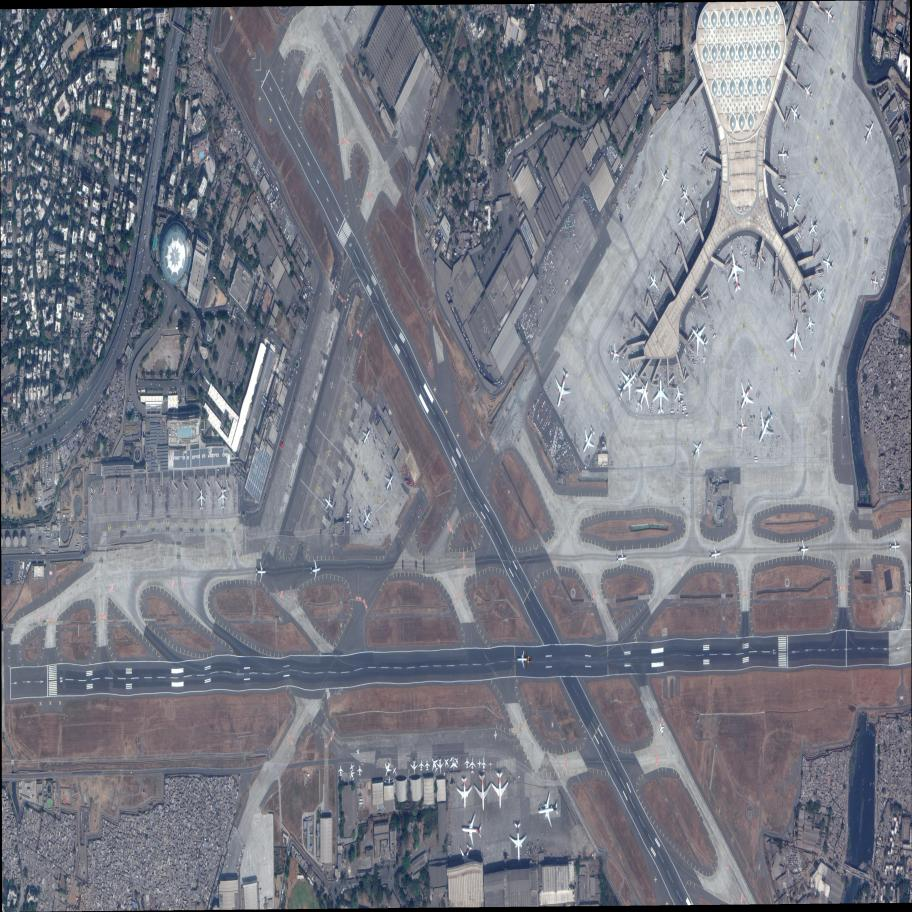large-vehicle: (264, 494, 266, 500), (133, 262, 135, 266)
plane: (745, 397, 787, 457), (607, 354, 648, 411), (545, 359, 580, 419), (727, 371, 765, 423), (625, 369, 659, 422), (684, 312, 714, 364), (781, 312, 808, 368), (722, 246, 748, 300), (574, 417, 603, 463), (454, 836, 482, 876), (682, 431, 711, 468), (639, 263, 668, 298), (507, 819, 529, 865), (536, 792, 561, 832), (668, 201, 695, 237), (857, 113, 882, 151), (353, 420, 378, 455), (673, 177, 697, 211), (461, 813, 483, 850), (490, 770, 509, 812), (473, 773, 492, 815), (355, 502, 379, 535), (377, 467, 401, 499), (652, 374, 670, 416), (653, 161, 674, 196), (809, 278, 830, 312), (455, 776, 474, 812), (802, 211, 824, 242), (786, 185, 806, 219), (786, 97, 805, 129), (319, 487, 337, 518), (799, 76, 817, 106), (820, 1, 839, 29), (671, 380, 687, 411), (820, 250, 835, 278), (426, 752, 443, 776), (607, 339, 621, 368), (708, 542, 723, 569), (380, 756, 395, 782), (308, 557, 322, 583), (804, 311, 817, 337), (797, 538, 811, 562), (516, 649, 531, 671), (889, 533, 901, 560), (615, 547, 628, 571), (255, 560, 268, 584), (735, 416, 748, 438), (777, 143, 790, 165), (218, 486, 229, 510), (197, 487, 207, 510), (870, 272, 880, 293), (656, 719, 667, 738), (468, 755, 477, 775), (441, 754, 452, 770), (435, 757, 444, 776), (449, 756, 458, 775), (347, 767, 357, 783), (906, 580, 912, 605), (390, 763, 400, 778), (410, 759, 418, 777), (353, 745, 363, 759), (480, 754, 487, 774), (452, 753, 461, 767), (348, 761, 356, 774), (448, 754, 456, 767), (464, 755, 471, 769), (338, 763, 344, 778), (418, 758, 424, 772), (357, 763, 363, 777), (424, 758, 430, 772), (477, 758, 482, 769), (488, 760, 493, 770), (494, 729, 498, 740)
small-vehicle: (287, 382, 290, 386), (289, 367, 292, 371), (284, 383, 287, 386), (65, 421, 68, 424), (70, 402, 73, 405), (86, 388, 89, 391), (13, 447, 16, 450), (319, 292, 321, 296), (135, 244, 137, 248), (158, 104, 160, 108), (155, 121, 157, 125), (145, 234, 147, 238), (118, 356, 120, 360), (112, 347, 114, 351), (121, 301, 123, 305), (130, 322, 132, 326), (134, 289, 136, 293), (137, 270, 139, 274), (139, 251, 141, 254), (147, 268, 149, 271), (148, 266, 150, 269), (169, 62, 171, 65), (282, 438, 284, 441), (291, 409, 293, 412), (294, 400, 296, 403), (141, 247, 143, 250), (124, 326, 126, 329), (124, 323, 126, 326), (118, 312, 120, 315), (120, 316, 122, 319), (130, 303, 132, 306), (127, 305, 129, 308), (131, 353, 133, 356), (141, 238, 143, 241), (81, 408, 83, 411), (30, 443, 33, 445), (32, 440, 34, 443), (289, 382, 290, 387), (137, 233, 138, 237), (157, 114, 158, 118), (151, 153, 152, 157), (138, 227, 139, 231), (144, 230, 145, 234), (146, 272, 148, 274), (167, 110, 168, 114), (154, 131, 155, 135), (289, 377, 290, 381), (294, 367, 295, 371), (17, 447, 19, 449), (135, 235, 136, 238), (138, 233, 139, 236), (147, 202, 148, 205), (155, 171, 156, 174), (146, 173, 147, 176), (145, 211, 146, 214), (140, 215, 141, 218), (144, 260, 145, 263), (154, 135, 155, 138), (281, 437, 282, 440), (172, 48, 173, 51), (171, 49, 172, 52), (144, 256, 145, 259), (142, 250, 143, 253), (118, 324, 119, 327), (126, 319, 127, 322), (143, 248, 144, 251), (153, 173, 154, 175), (20, 451, 22, 452)
storage-tank: (60, 523, 70, 543), (73, 468, 83, 488), (73, 496, 83, 515), (46, 782, 52, 795), (13, 534, 19, 547), (46, 798, 52, 810), (22, 533, 27, 547), (5, 536, 11, 547)
